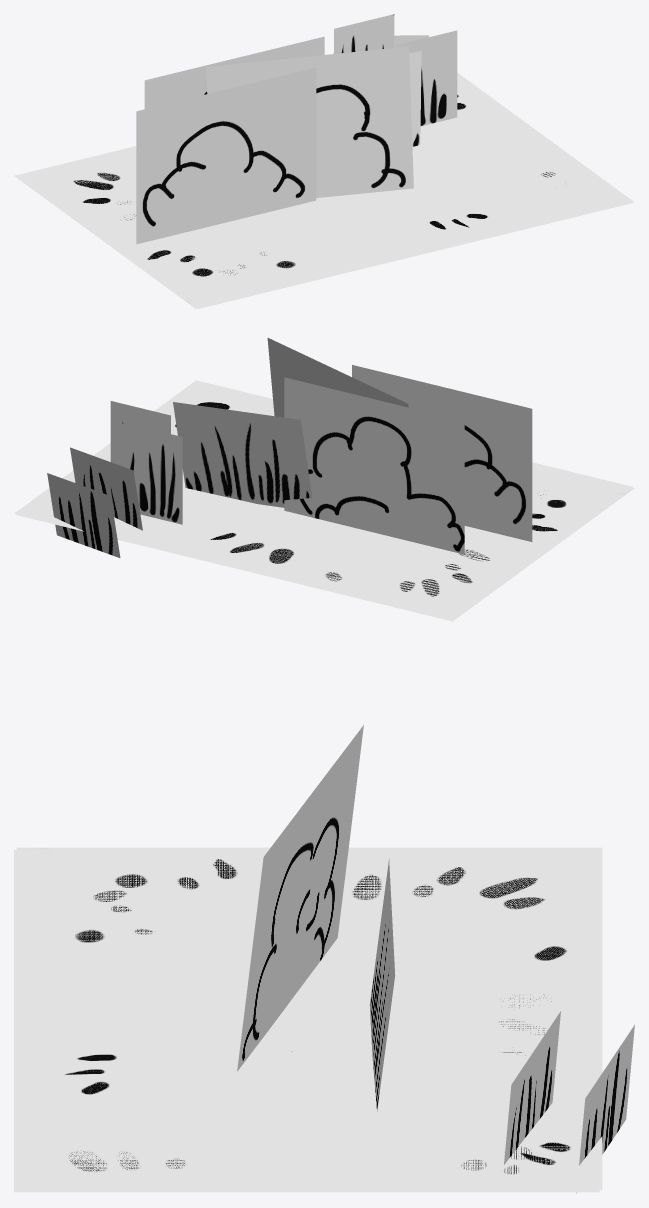
Rendered from Grass Deko.fbx.
The picture shows the model from 3 angles, top to bottom: view 1: azimuth 30°, elevation 25°; view 2: azimuth 150°, elevation 25°; view 3: azimuth 270°, elevation 25°; orthographic projection. The views are drawn at different scales.
Visible parts, largest first — view 1: Grass Plane 1, Bush 3, Grass Plane 2, Bush 4, Grass 1, Bush 1, Grass 4, Grass 5; view 2: Grass Plane 2, Grass Plane 1, Bush 1, Bush 3, Grass 5, Grass 4, Grass 3, Bush 4, Grass 2, Grass 1; view 3: Grass Plane 1, Grass Plane 2, Bush 4, Grass 2, Grass 3, Grass 5.
Boxes of the visible parts, x1,y1,x2,y2 form: Grass Plane 1: (14, 76, 630, 308); Bush 3: (136, 67, 316, 244); Grass Plane 2: (17, 73, 634, 308); Bush 4: (206, 46, 413, 197); Grass 1: (397, 30, 457, 126); Bush 1: (144, 36, 324, 108); Grass 4: (334, 14, 394, 53); Grass 5: (409, 51, 421, 146); Grass Plane 2: (14, 380, 632, 619); Grass Plane 1: (16, 382, 634, 621); Bush 1: (284, 377, 464, 554); Bush 3: (352, 365, 532, 541); Grass 5: (173, 402, 312, 507); Grass 4: (122, 422, 182, 524); Grass 3: (47, 473, 120, 557); Bush 4: (267, 338, 408, 417); Grass 2: (70, 447, 142, 530); Grass 1: (110, 401, 170, 465); Grass Plane 1: (16, 847, 602, 1190); Grass Plane 2: (14, 849, 599, 1192); Bush 4: (237, 725, 363, 1071); Grass 2: (504, 1011, 560, 1164); Grass 3: (576, 1025, 634, 1193); Grass 5: (369, 859, 395, 1111).
Size of the model in its own units: 178 by 59.72 by 136.
